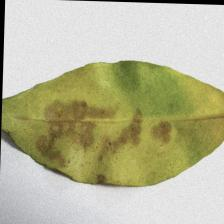black spot: (43, 95, 173, 164)
